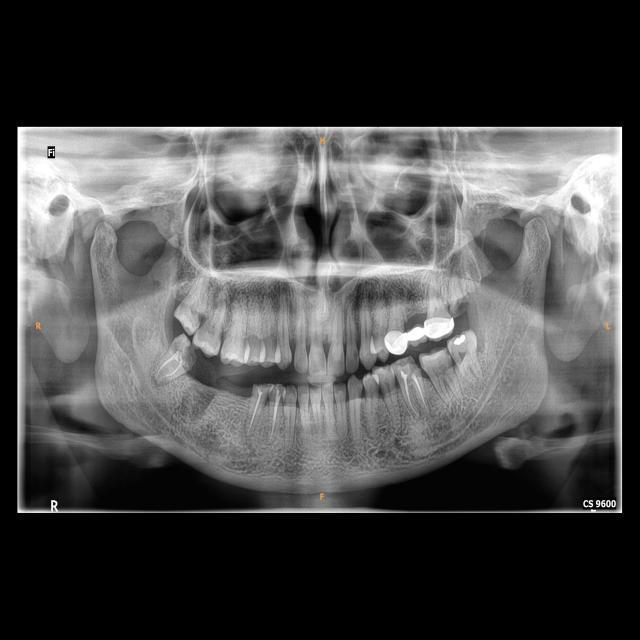dentin-curugu: (176, 340, 198, 368), (190, 302, 208, 328), (402, 355, 422, 372)
dolgu: (451, 333, 470, 348)
kanal-tedavisi: (400, 372, 425, 414), (160, 354, 182, 379), (250, 393, 263, 428), (270, 398, 281, 435)
kaplama: (383, 326, 409, 356), (425, 314, 456, 338)
kirik: (270, 380, 286, 397), (252, 381, 272, 394)
kopru: (402, 320, 434, 348)
